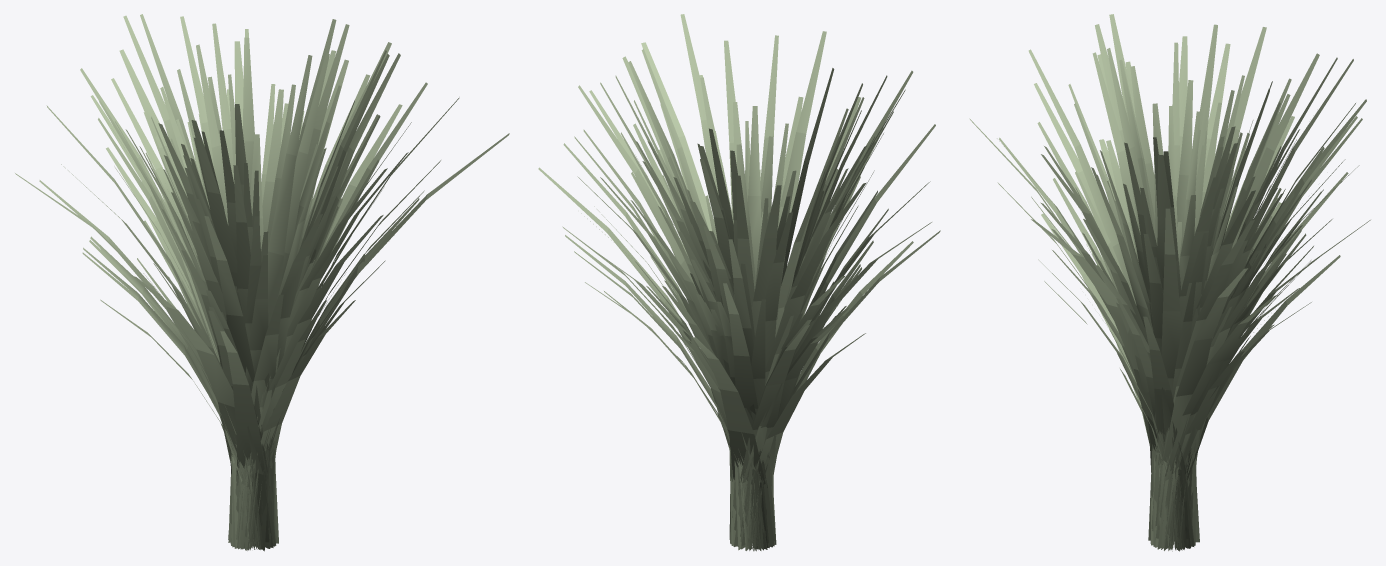
File: layer_grass.glb
The picture shows the model from 3 angles, left to right: view 1: azimuth 30°, elevation 25°; view 2: azimuth 150°, elevation 25°; view 3: azimuth 270°, elevation 25°; orthographic projection. The views are drawn at different scales.
Visible parts, largest first — view 1: v0_foliage, v1_foliage, v2_foliage; view 2: v0_foliage, v1_foliage, v2_foliage; view 3: v0_foliage, v1_foliage, v2_foliage.
Boxes of the visible parts, bbox=[...] form: v0_foliage: bbox=[15, 14, 509, 551]; v1_foliage: bbox=[80, 16, 459, 550]; v2_foliage: bbox=[115, 23, 354, 550]; v0_foliage: bbox=[538, 31, 940, 550]; v1_foliage: bbox=[563, 14, 888, 551]; v2_foliage: bbox=[634, 68, 893, 550]; v0_foliage: bbox=[969, 14, 1370, 550]; v1_foliage: bbox=[997, 24, 1366, 551]; v2_foliage: bbox=[1068, 48, 1285, 551].
Bounding box in the file's own units: 0.8767 × 1 × 0.7773.
